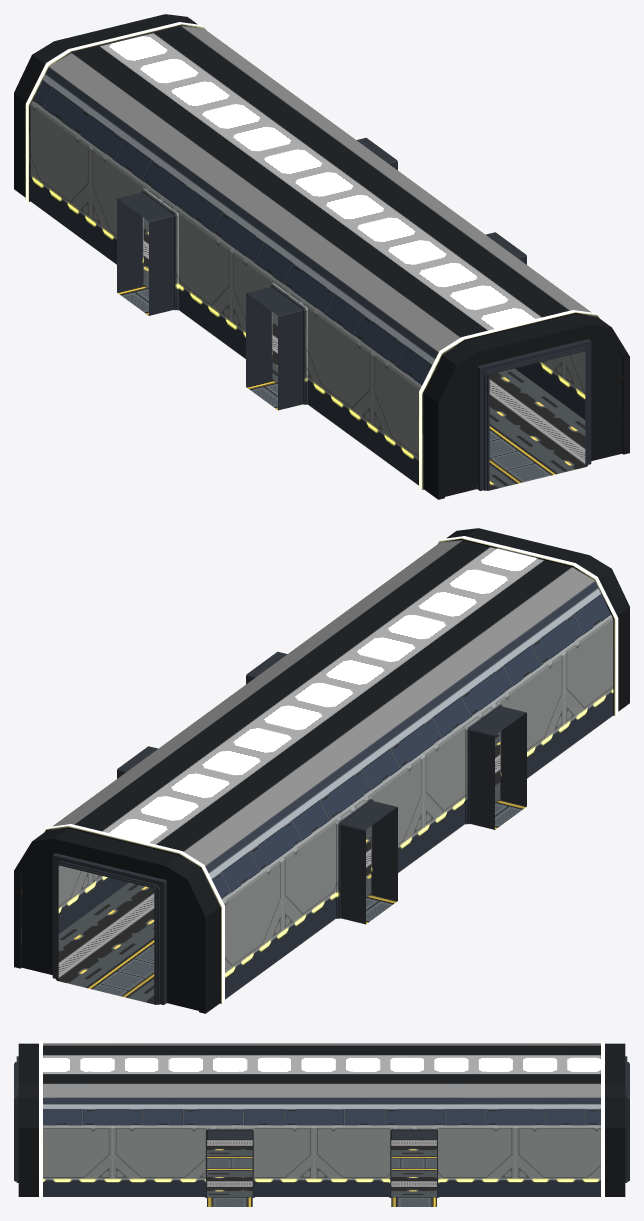
The model's file is Pasillo_Tx02.fbx.
The picture shows the model from 3 angles, top to bottom: view 1: azimuth 30°, elevation 25°; view 2: azimuth 150°, elevation 25°; view 3: azimuth 270°, elevation 25°; orthographic projection. The views are drawn at different scales.
Parts seen in each view (by area): view 1: estructura3; view 2: estructura3; view 3: estructura3.
Part boxes in pixels (left/top/right/bottom): estructura3: left=14, top=14, right=629, bottom=499; estructura3: left=14, top=528, right=629, bottom=1013; estructura3: left=14, top=1042, right=629, bottom=1206.
Bounding box in the file's own units: 555 × 300 × 1666.
Materials: 1 (1 with a texture image).
